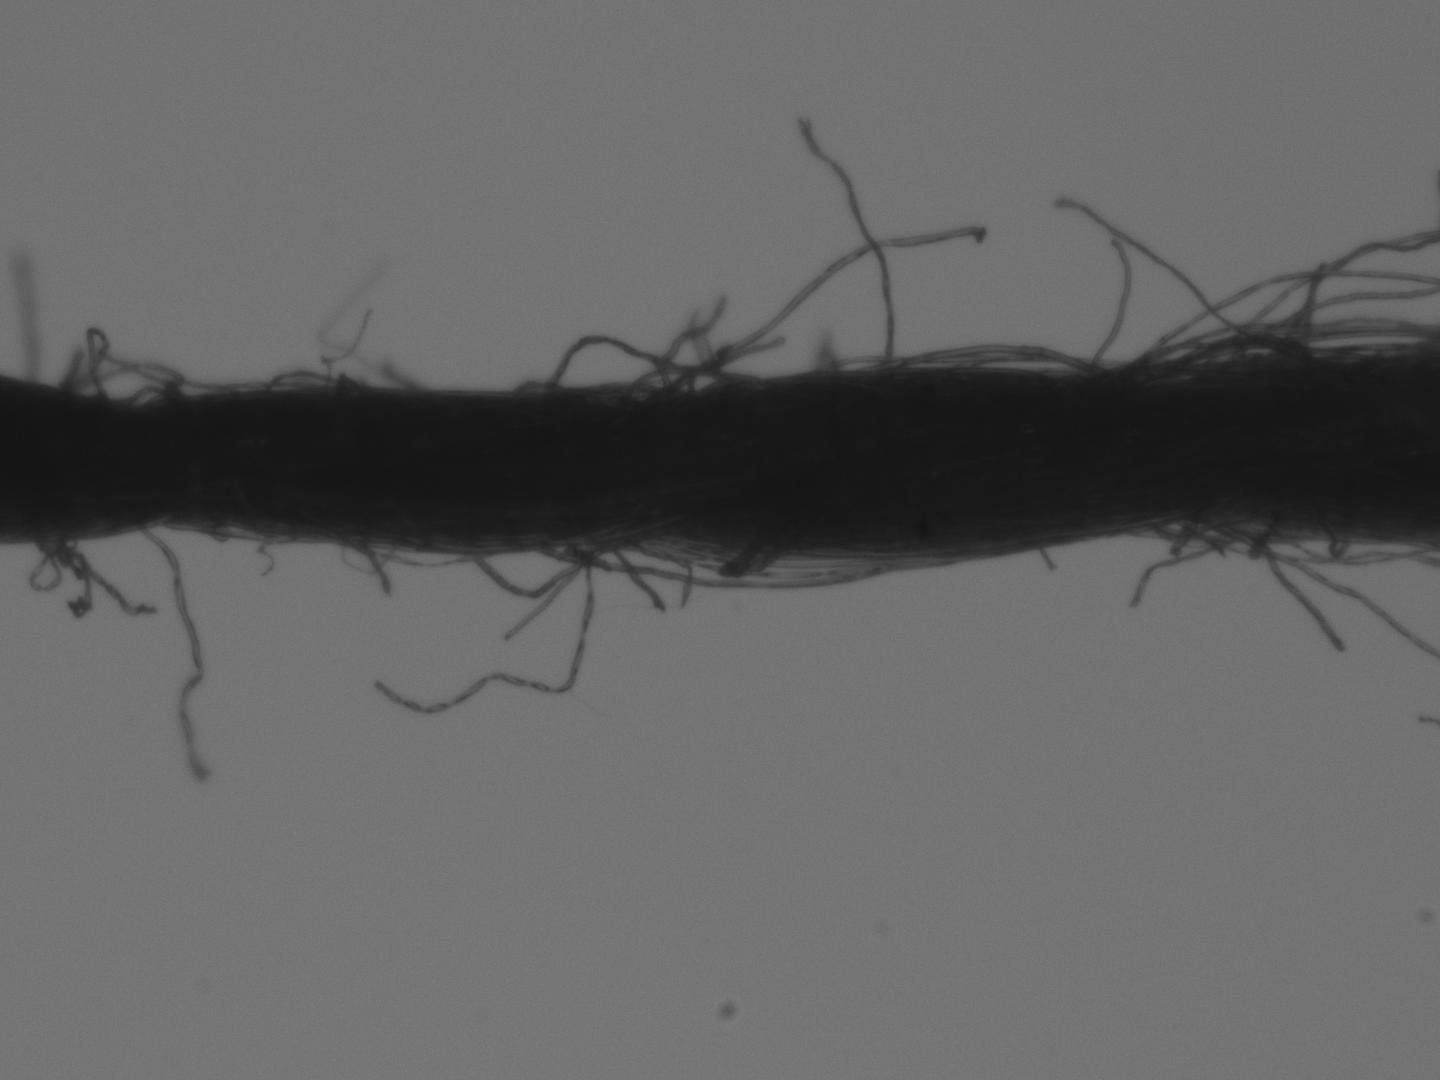loop_fiber: (531, 535, 949, 594), (543, 327, 753, 395), (464, 533, 621, 601), (1141, 327, 1308, 378), (1168, 516, 1340, 564), (903, 341, 1098, 377), (65, 355, 192, 408), (1273, 525, 1417, 563), (808, 354, 983, 378), (1149, 508, 1253, 543), (265, 368, 364, 395), (503, 378, 568, 394)
protruding_fiber: (674, 223, 982, 390), (1052, 193, 1286, 361), (369, 543, 596, 712), (797, 113, 903, 370), (137, 526, 207, 779), (1236, 531, 1346, 655), (499, 541, 612, 640), (1082, 239, 1136, 372), (604, 534, 668, 615)
